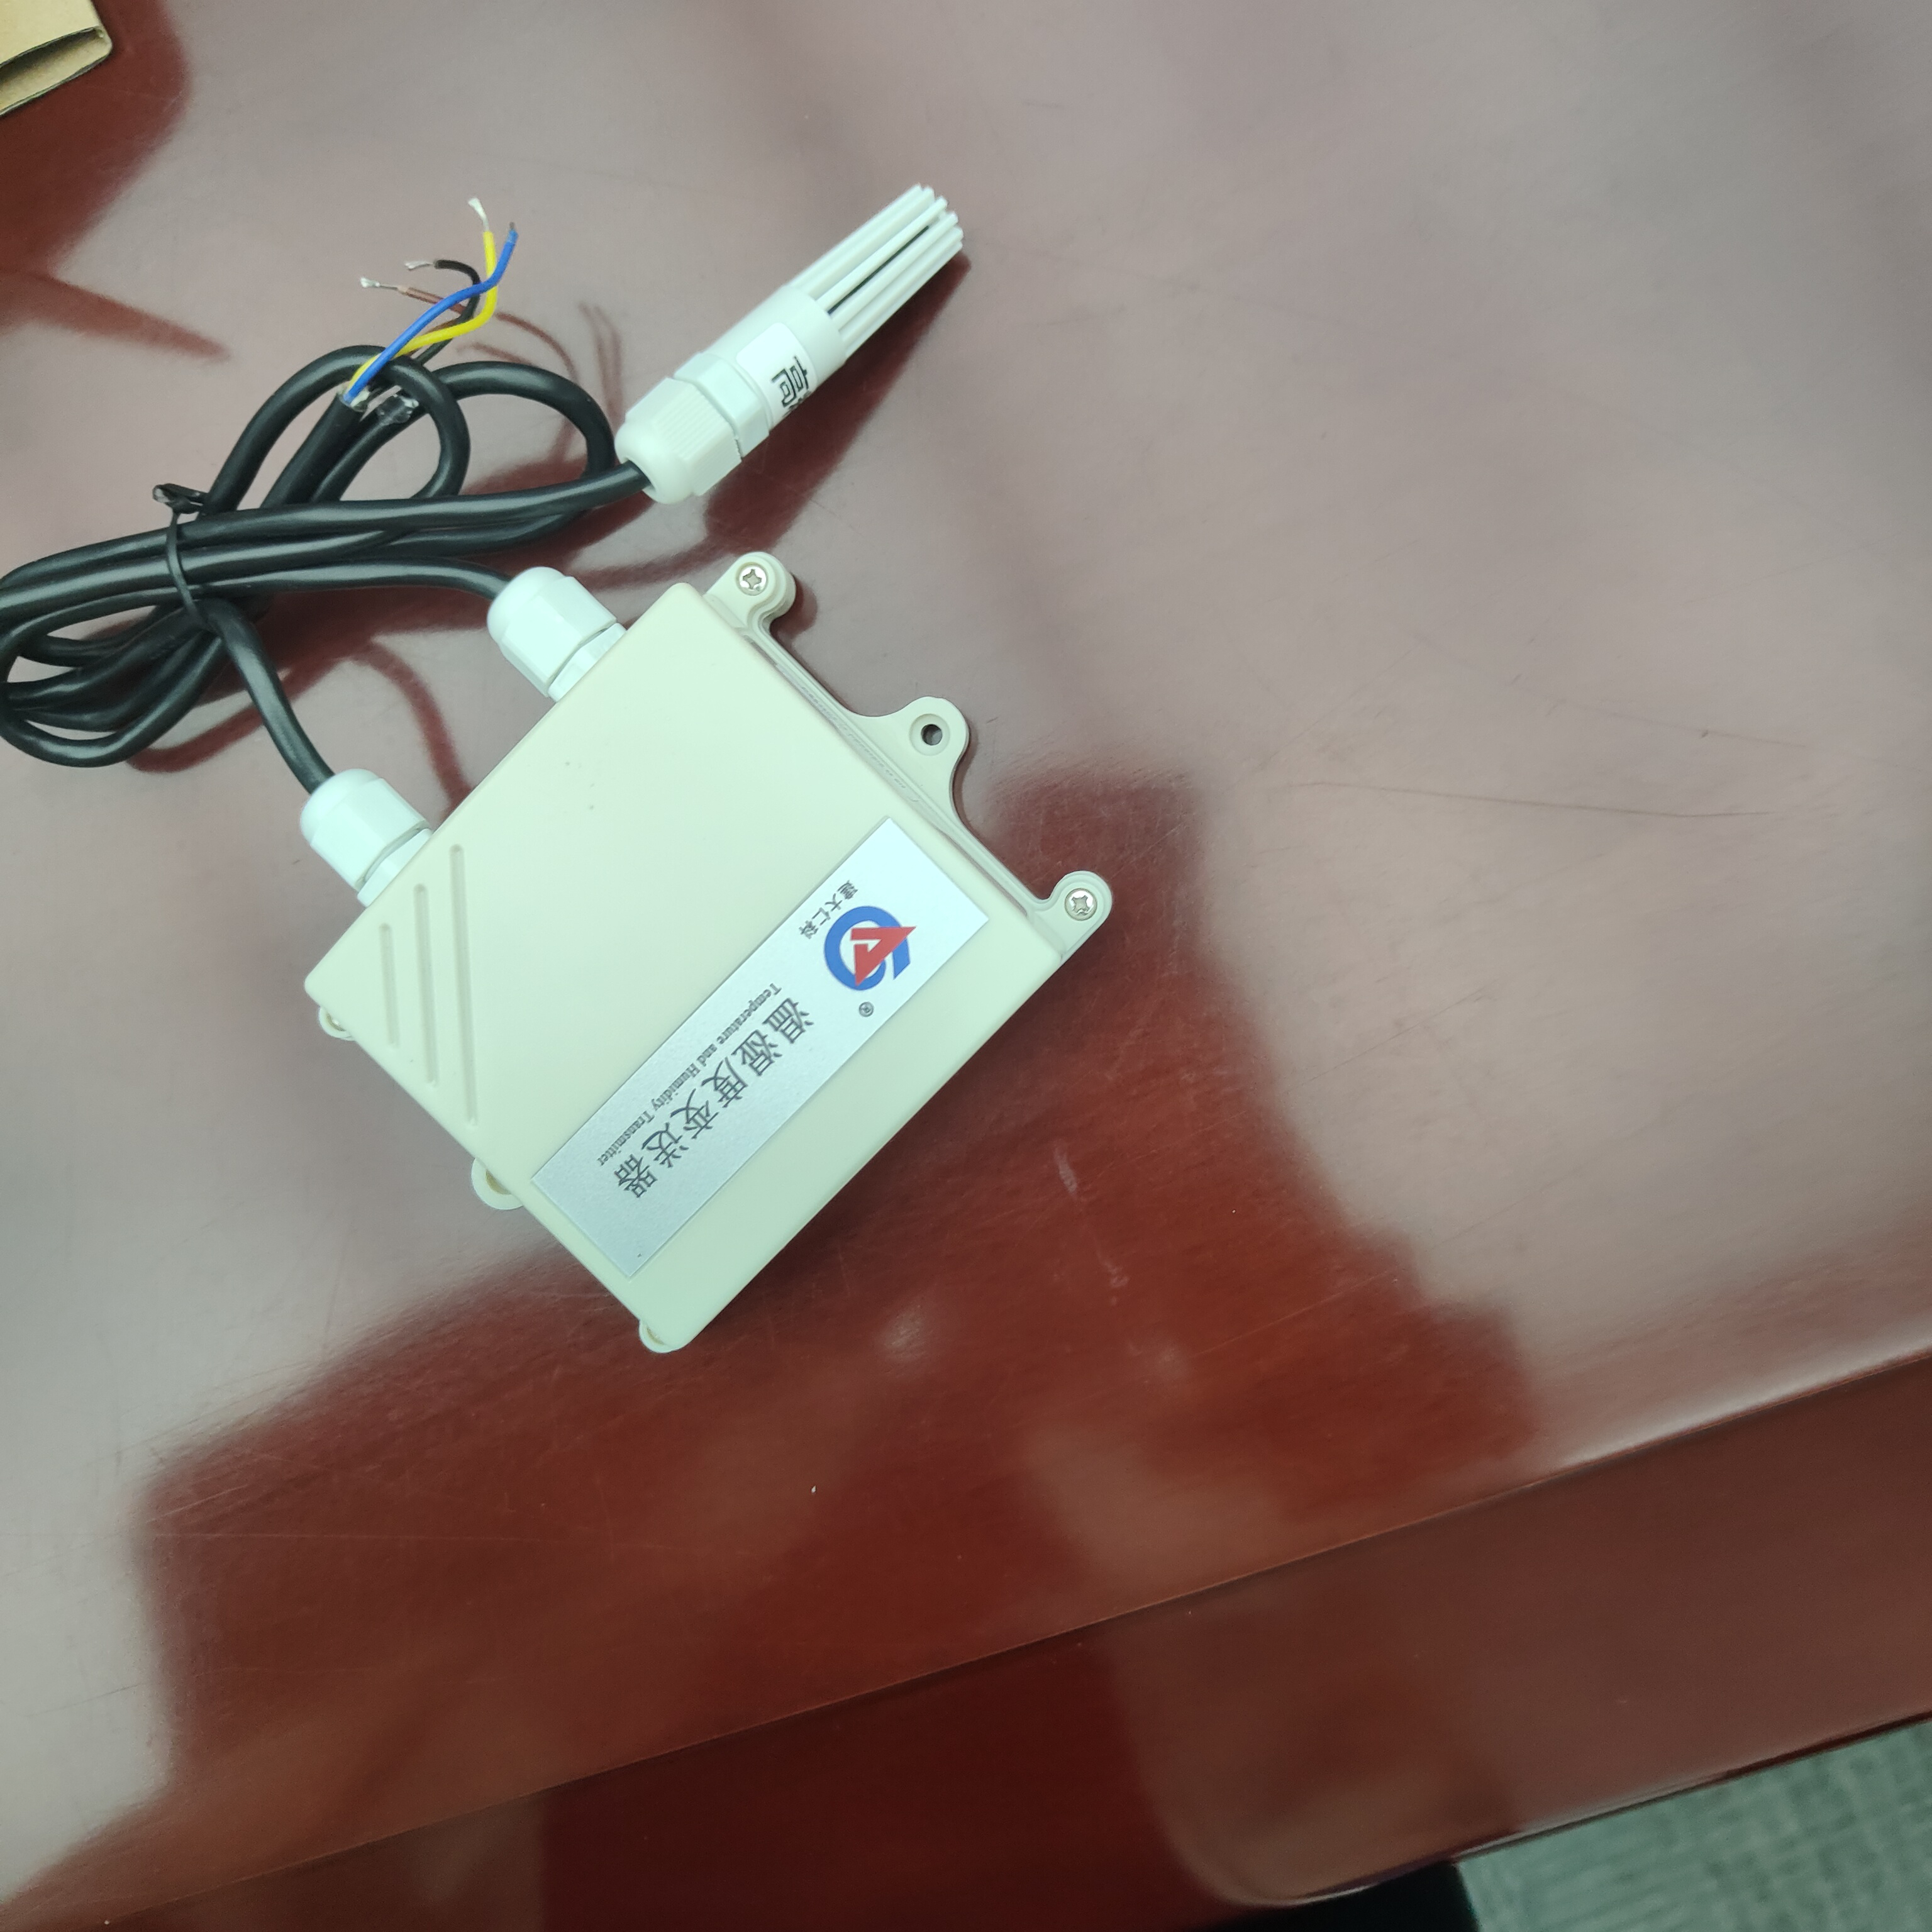wsdbsq: (287, 571, 1136, 1350)
